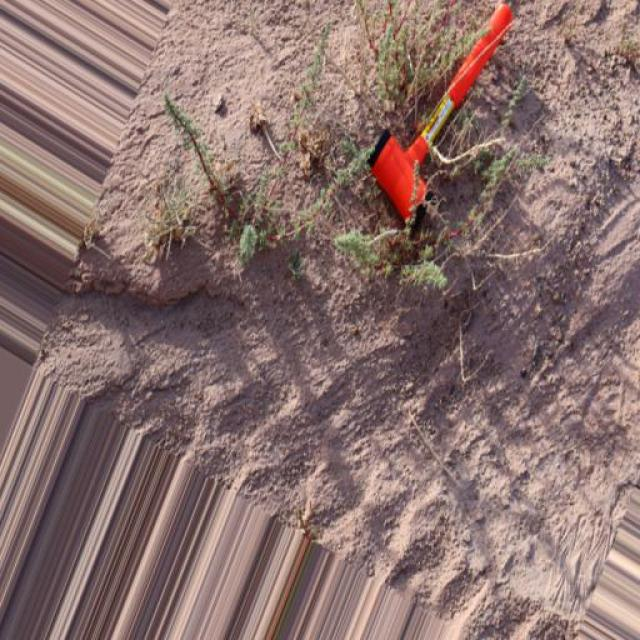mallet: (365, 0, 515, 226)
